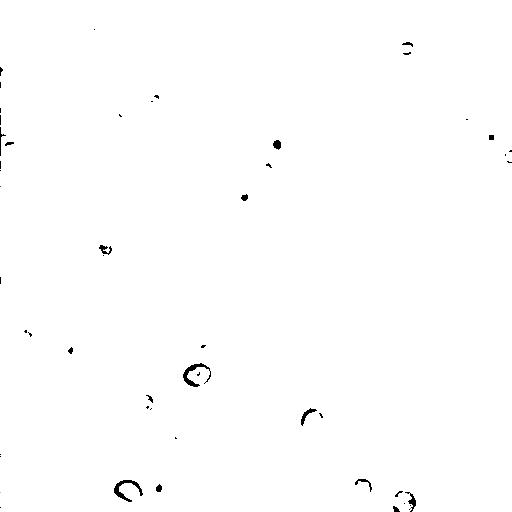micro-algae: (141, 328, 216, 395), (442, 271, 496, 326), (174, 402, 232, 452), (170, 417, 220, 468), (295, 287, 342, 333), (448, 0, 511, 28), (128, 173, 168, 216), (411, 200, 452, 239), (1, 248, 39, 289), (289, 370, 326, 408), (137, 465, 173, 503), (181, 326, 218, 360), (58, 328, 91, 363), (458, 327, 492, 360), (258, 127, 291, 160), (74, 12, 108, 43), (336, 296, 371, 325), (89, 353, 125, 379), (98, 103, 129, 133), (254, 199, 284, 229), (299, 405, 327, 437), (1, 141, 31, 170), (182, 363, 213, 388), (1, 109, 23, 144), (112, 480, 144, 503), (15, 325, 41, 350), (264, 96, 290, 121), (390, 489, 418, 512), (254, 161, 278, 186), (230, 187, 255, 211), (480, 123, 501, 151), (132, 392, 155, 415), (135, 444, 159, 466), (94, 233, 114, 258), (316, 325, 341, 345), (352, 477, 373, 499), (0, 57, 14, 84), (455, 114, 474, 133), (397, 41, 416, 56), (447, 73, 462, 88), (170, 425, 185, 440), (84, 0, 106, 9), (503, 148, 512, 165)
